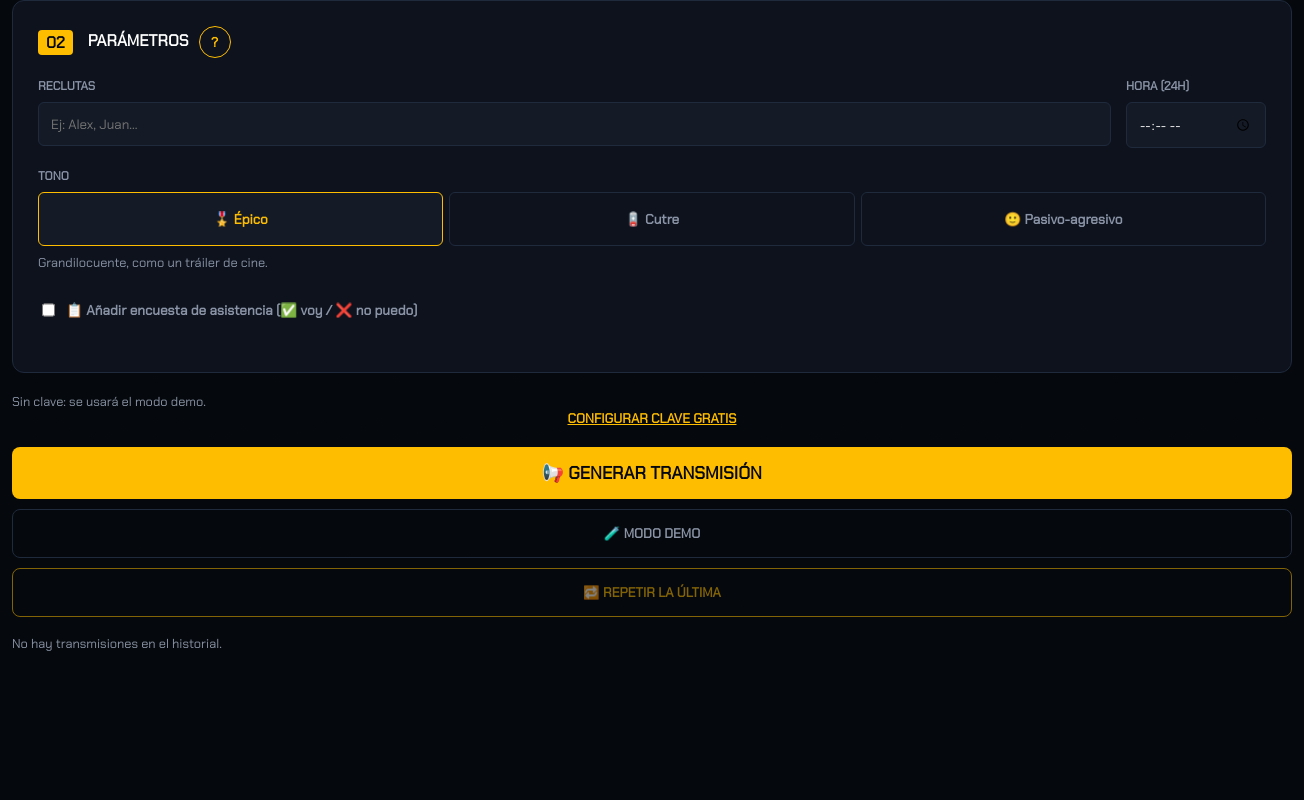
MissionControls › al elegir el tono cutre actualiza la misión y su explicación
The image size is (1304, 800).
Click the radio button labelled "🪫 Cutre".
click(652, 219)  # box x1=449 y1=192 x2=855 y2=246
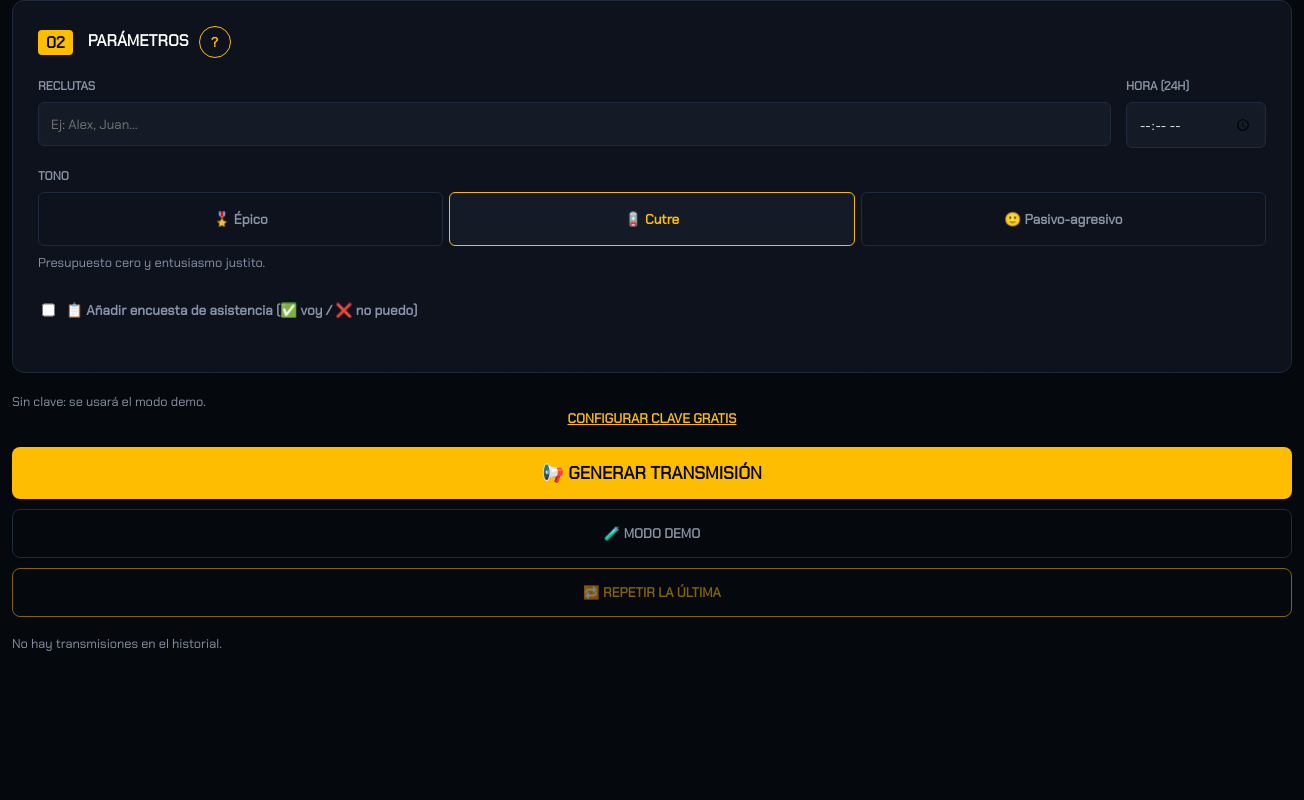
Result: the text with id "tone-hint" reads "Presupuesto cero y entusiasmo justito." at x1=38 y1=254 x2=265 y2=271
